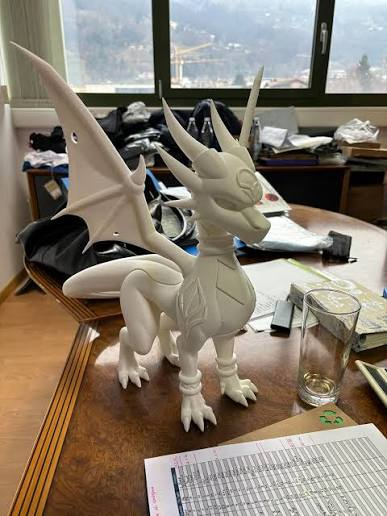3d print: (19, 47, 269, 430)
